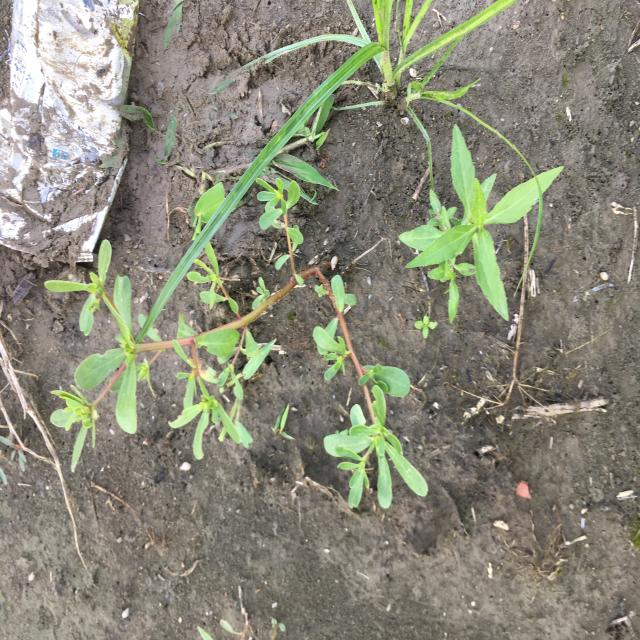Eclipta: (397, 122, 565, 326)
Purslane: (43, 175, 430, 511)
